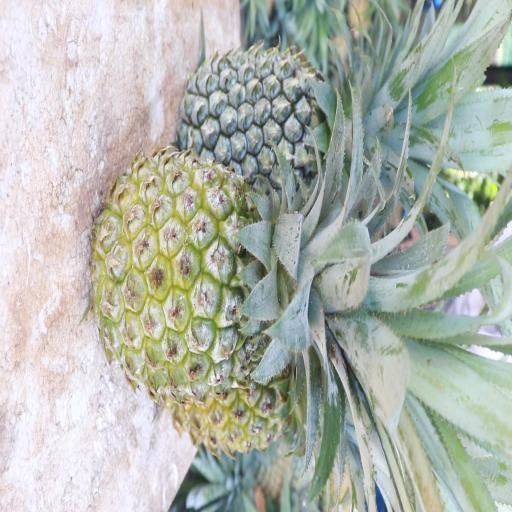------------------------------: (82, 152, 368, 406)
